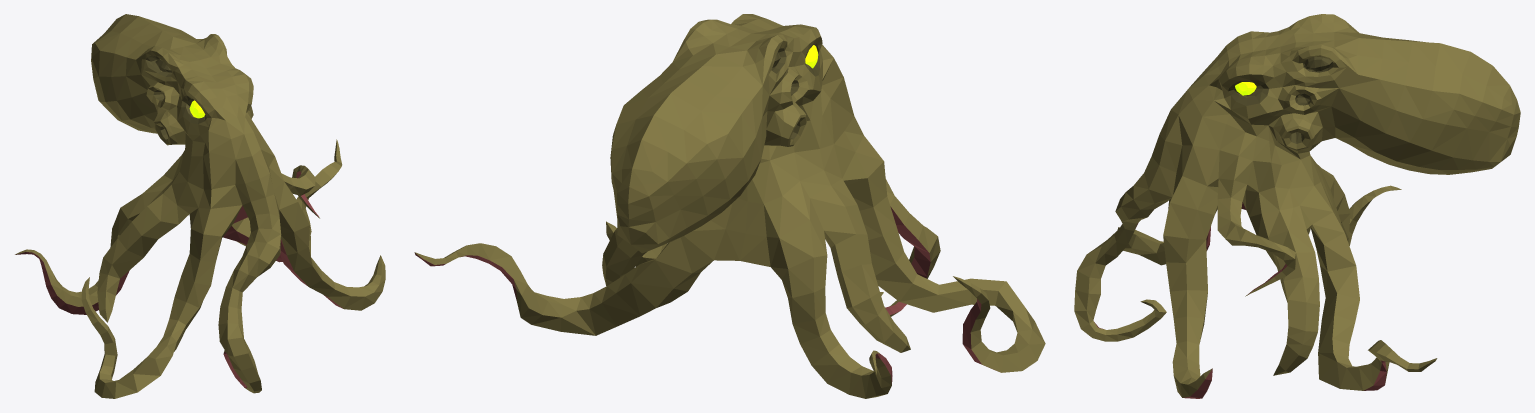
The model's file is Kraken_002.fbx.
3 views of the same model, side by side, from view 1: azimuth 30°, elevation 25°; view 2: azimuth 150°, elevation 25°; view 3: azimuth 270°, elevation 25° (orthographic). The views are drawn at different scales.
Parts seen in each view (by area): view 1: Kraken_002; view 2: Kraken_002; view 3: Kraken_002.
Boxes of the visible parts, <box> form: Kraken_002: <box>15,14,385,398</box>; Kraken_002: <box>414,14,1045,398</box>; Kraken_002: <box>1074,14,1520,398</box>.
Bounding box in the file's own units: 2.09 × 1.56 × 1.93.
